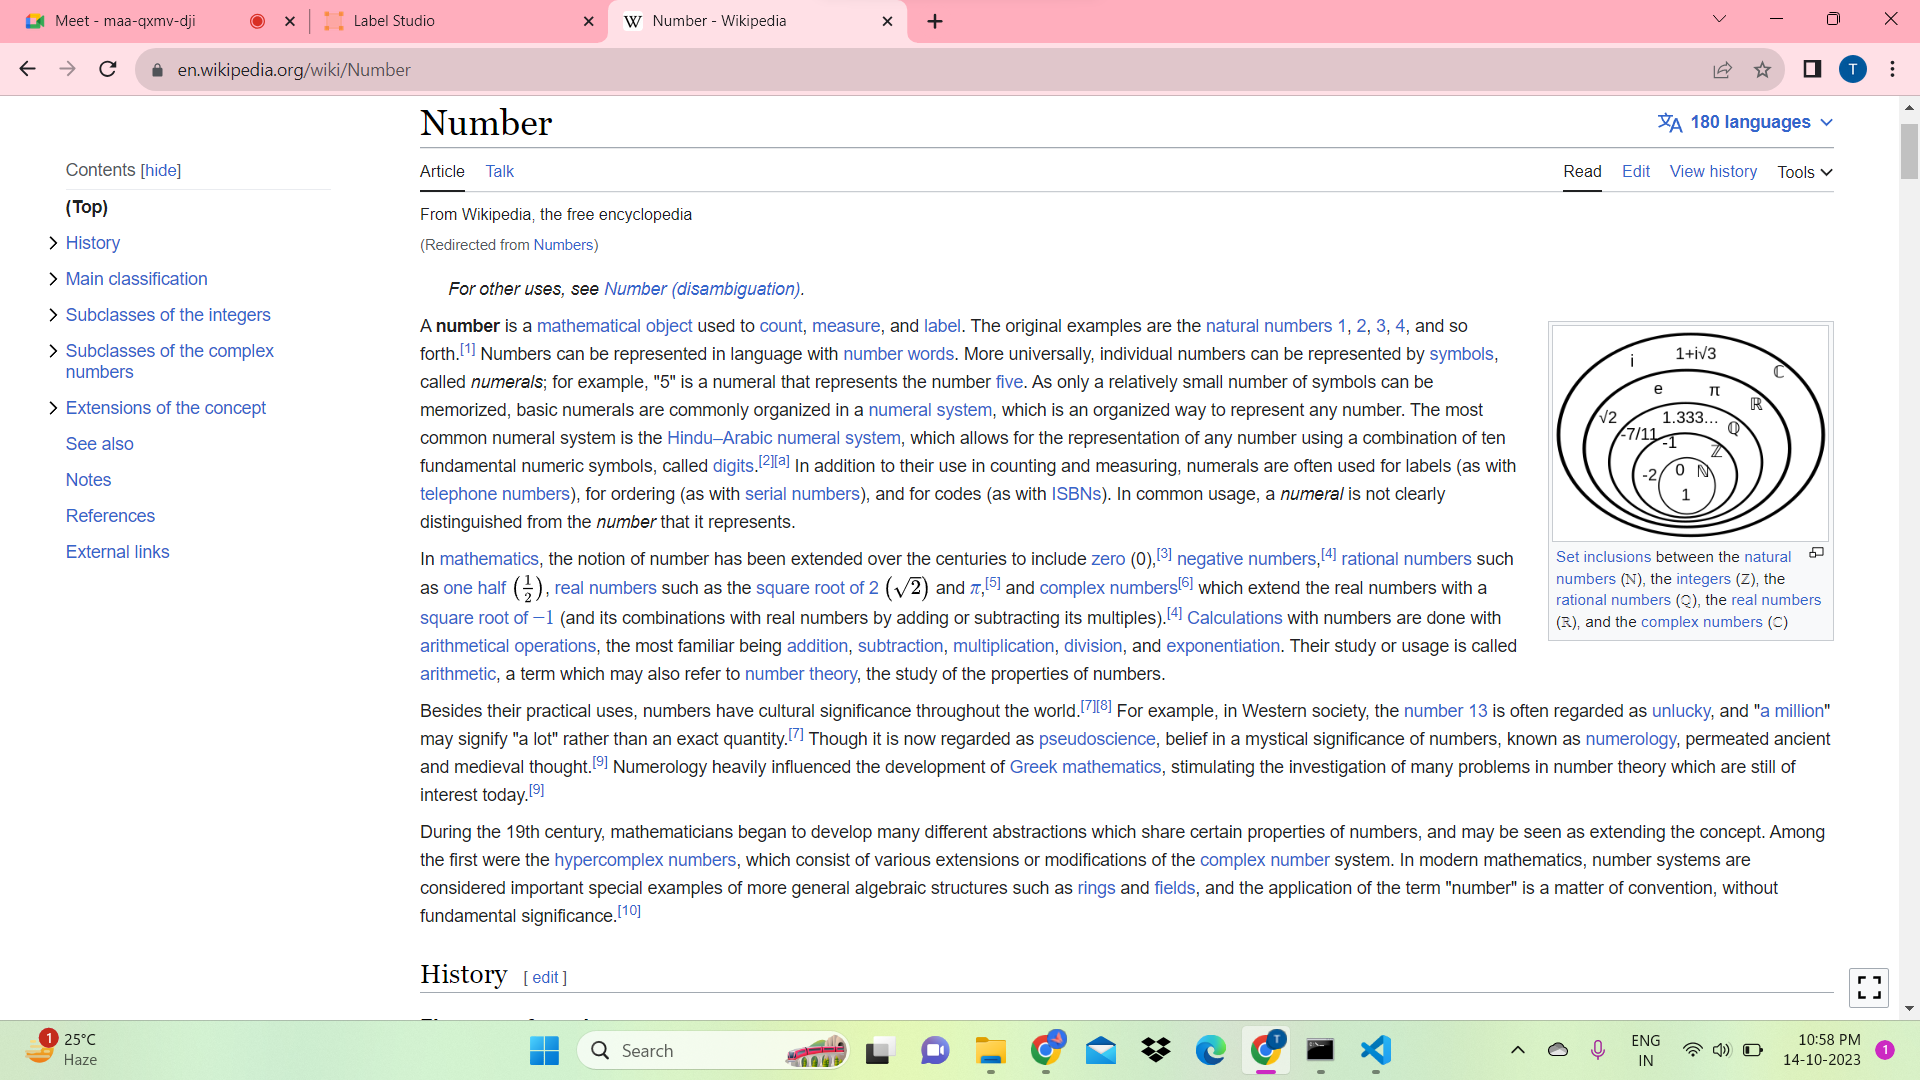Image: (1551, 315, 1834, 546)
Paragraph: (404, 313, 1527, 530), (406, 815, 1836, 943), (394, 691, 1846, 807), (410, 542, 1538, 688), (62, 302, 345, 384), (58, 471, 194, 570), (61, 394, 282, 454), (440, 268, 814, 302), (62, 228, 233, 295), (400, 203, 705, 231), (407, 99, 550, 152), (50, 152, 204, 187), (411, 957, 516, 988), (58, 194, 133, 220)
